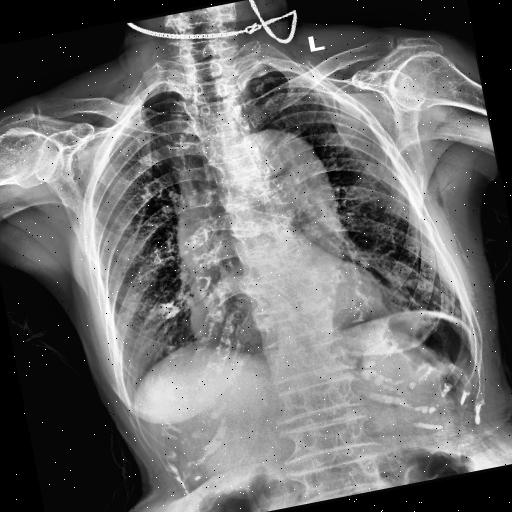0- Aortic enlargement: (237, 121, 342, 226), (230, 122, 336, 222), (238, 122, 335, 228)
3- Cardiomegaly: (178, 254, 390, 358), (188, 274, 388, 354)
